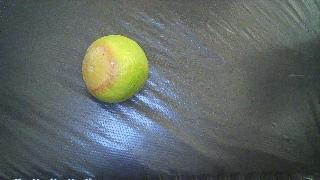DESECHO: (82, 35, 149, 102)
